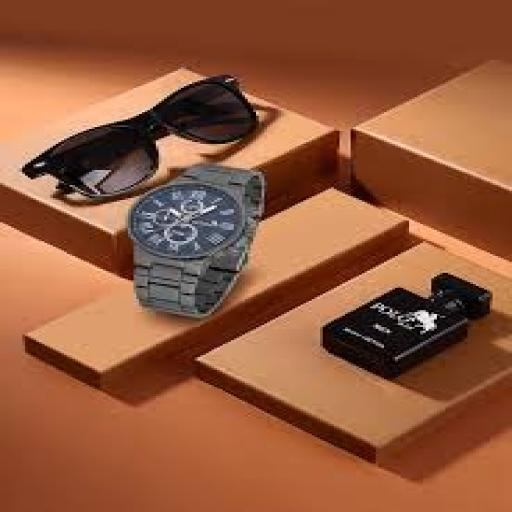KolSaati: (86, 133, 303, 343)
